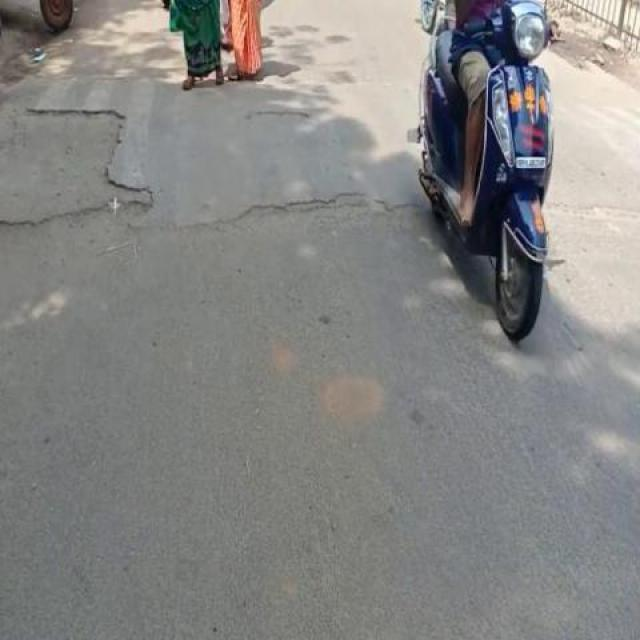Pothole: (13, 89, 185, 222), (212, 186, 420, 226), (226, 97, 314, 128)
Speed Bump: (1, 75, 422, 226), (549, 84, 639, 214)
